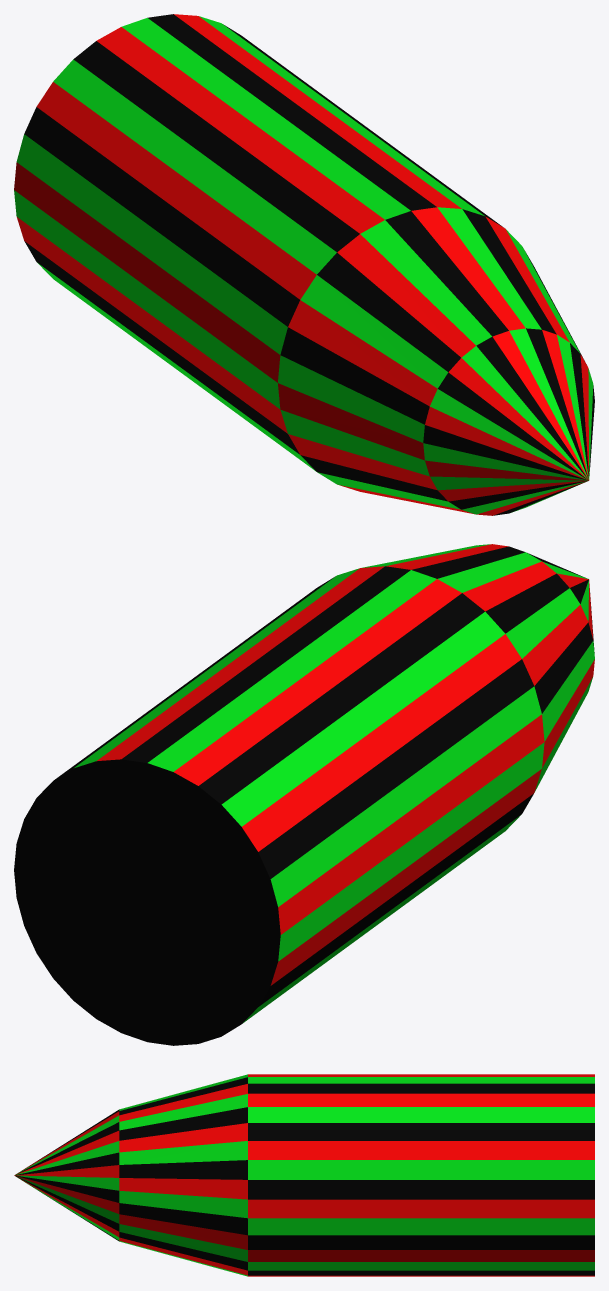
The model's file is Frogi_Bullet.fbx.
3 renders of one model, top to bottom at view 1: azimuth 30°, elevation 25°; view 2: azimuth 150°, elevation 25°; view 3: azimuth 270°, elevation 25°, orthographic. The views are drawn at different scales.
Parts seen in each view (by area): view 1: Bullet; view 2: Bullet; view 3: Bullet.
Boxes of the visible parts, x1,y1,x2,y2 form: Bullet: (14,14,594,515); Bullet: (14,544,594,1045); Bullet: (14,1074,594,1276).
Bounding box in the file's own units: 20 × 20 × 57.37.
